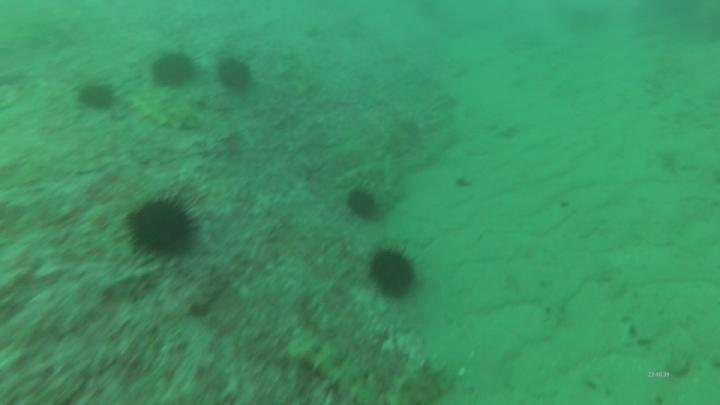echinus: (122, 190, 200, 262), (369, 244, 418, 304), (148, 47, 200, 96), (213, 56, 256, 98), (76, 81, 121, 113), (345, 184, 381, 220)
holothurian: (288, 330, 450, 405), (125, 88, 205, 135)
